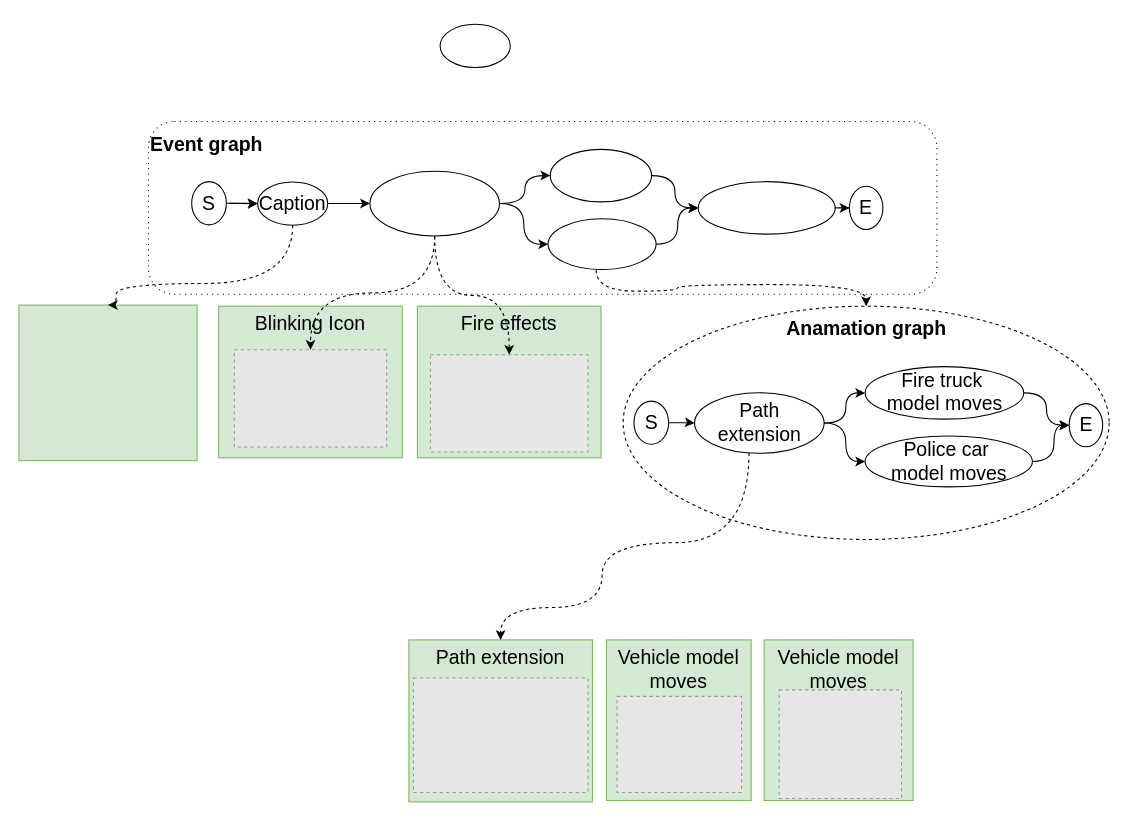
This 1129x821 diagram has some shape labels left out. Grey dashed boxes stand in for pictures. Each missing label, with the centre of its shape:
"Building caught fire" belongs at (x=434, y=203).
"Camera" belongs at (x=474, y=45).
"Display caption Fire drill" belongs at (x=107, y=382).
"Evacuation" belongs at (x=600, y=175).
"Fire extinguished" belongs at (x=766, y=207).
"Rescue dispatched" belongs at (x=601, y=244).
